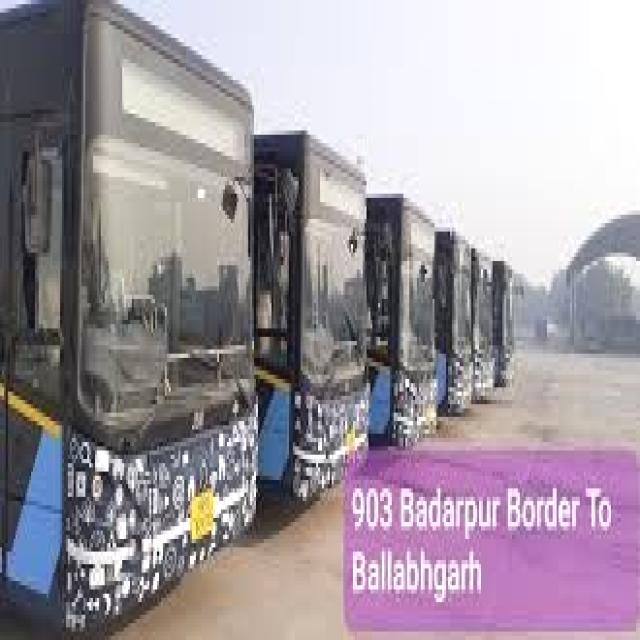bus: (3, 6, 256, 640), (258, 135, 370, 501), (373, 193, 440, 440), (441, 228, 474, 413), (476, 254, 497, 398), (497, 263, 519, 380)
